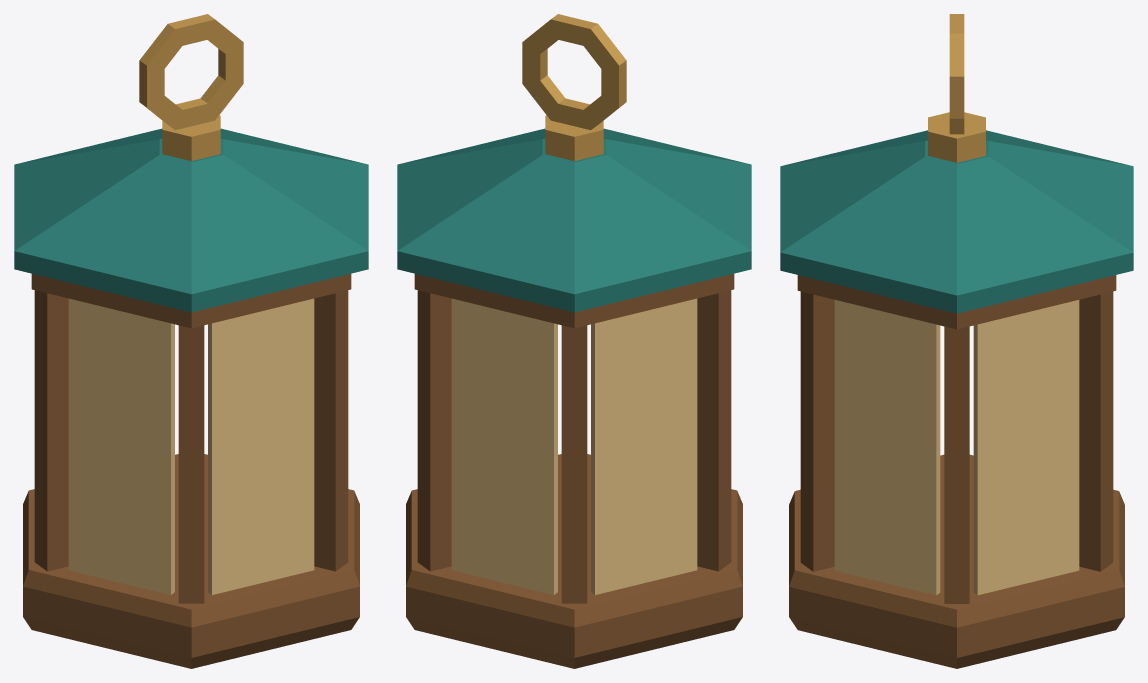
3 views of the same model, side by side, from view 1: azimuth 30°, elevation 25°; view 2: azimuth 150°, elevation 25°; view 3: azimuth 270°, elevation 25° (orthographic).
Parts seen in each view (by area): view 1: CompleteOverhangingSixFacetRoof, InsetOpaqueParchmentPanel_03, InsetOpaqueParchmentPanel_04, CompleteHexagonalWoodBase, TimberCornerColumn_03, TimberCornerColumn_05, TimberCornerColumn_04, WholeThickOpenHangingLoop, CompleteUpperHexagonalWoodRing, WholeBrassTopSeat; view 2: CompleteOverhangingSixFacetRoof, InsetOpaqueParchmentPanel_01, InsetOpaqueParchmentPanel_02, CompleteHexagonalWoodBase, TimberCornerColumn_01, TimberCornerColumn_03, TimberCornerColumn_02, WholeThickOpenHangingLoop, CompleteUpperHexagonalWoodRing, WholeBrassTopSeat; view 3: CompleteOverhangingSixFacetRoof, InsetOpaqueParchmentPanel_00, InsetOpaqueParchmentPanel_05, CompleteHexagonalWoodBase, TimberCornerColumn_01, TimberCornerColumn_05, TimberCornerColumn_00, CompleteUpperHexagonalWoodRing, WholeBrassTopSeat, WholeThickOpenHangingLoop.
Boxes of the visible parts, bbox=[...] form: CompleteOverhangingSixFacetRoof: bbox=[14, 128, 368, 312]; InsetOpaqueParchmentPanel_03: bbox=[68, 298, 174, 594]; InsetOpaqueParchmentPanel_04: bbox=[208, 298, 314, 594]; CompleteHexagonalWoodBase: bbox=[23, 454, 359, 668]; TimberCornerColumn_03: bbox=[34, 290, 68, 571]; TimberCornerColumn_05: bbox=[314, 290, 348, 571]; TimberCornerColumn_04: bbox=[178, 325, 204, 603]; WholeThickOpenHangingLoop: bbox=[139, 14, 243, 130]; CompleteUpperHexagonalWoodRing: bbox=[31, 273, 351, 328]; WholeBrassTopSeat: bbox=[162, 115, 220, 160]; CompleteOverhangingSixFacetRoof: bbox=[397, 128, 751, 312]; InsetOpaqueParchmentPanel_01: bbox=[451, 298, 557, 594]; InsetOpaqueParchmentPanel_02: bbox=[591, 298, 697, 594]; CompleteHexagonalWoodBase: bbox=[406, 454, 742, 668]; TimberCornerColumn_01: bbox=[417, 290, 451, 571]; TimberCornerColumn_03: bbox=[697, 290, 731, 571]; TimberCornerColumn_02: bbox=[561, 325, 587, 603]; WholeThickOpenHangingLoop: bbox=[522, 14, 626, 130]; CompleteUpperHexagonalWoodRing: bbox=[414, 273, 734, 328]; WholeBrassTopSeat: bbox=[545, 115, 603, 160]; CompleteOverhangingSixFacetRoof: bbox=[780, 130, 1133, 313]; InsetOpaqueParchmentPanel_00: bbox=[973, 300, 1079, 595]; InsetOpaqueParchmentPanel_05: bbox=[834, 300, 940, 595]; CompleteHexagonalWoodBase: bbox=[789, 454, 1124, 668]; TimberCornerColumn_01: bbox=[1079, 291, 1113, 571]; TimberCornerColumn_05: bbox=[800, 291, 834, 571]; TimberCornerColumn_00: bbox=[944, 326, 969, 603]; CompleteUpperHexagonalWoodRing: bbox=[797, 275, 1116, 329]; WholeBrassTopSeat: bbox=[928, 112, 985, 162]; WholeThickOpenHangingLoop: bbox=[949, 14, 964, 134].
Bounding box in the file's own units: 0.61 × 0.9363 × 0.5283.
